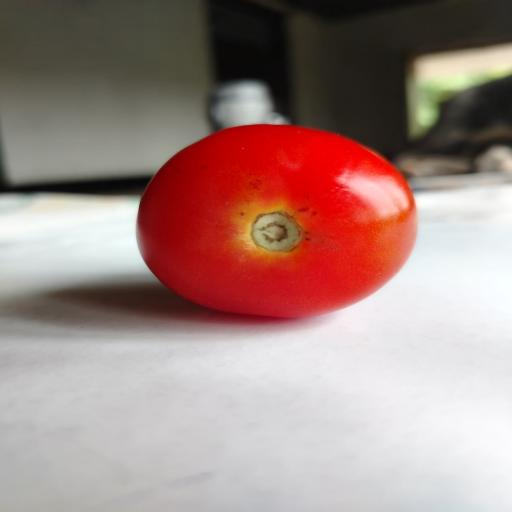ripe: (137, 125, 417, 317)
